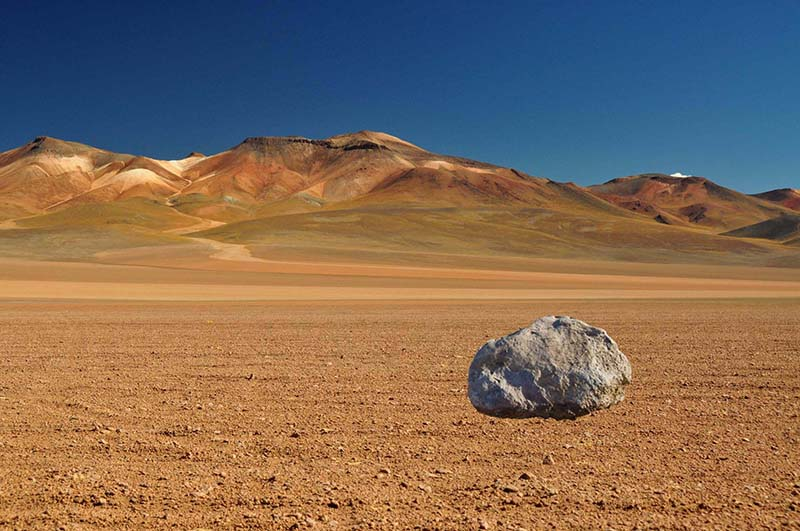Rocks: (456, 307, 635, 425)
